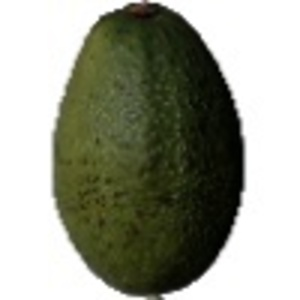abacate: (44, 1, 249, 295)
